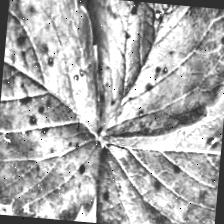Leaf Spot: (0, 0, 116, 223), (75, 0, 224, 150), (94, 60, 224, 224)
